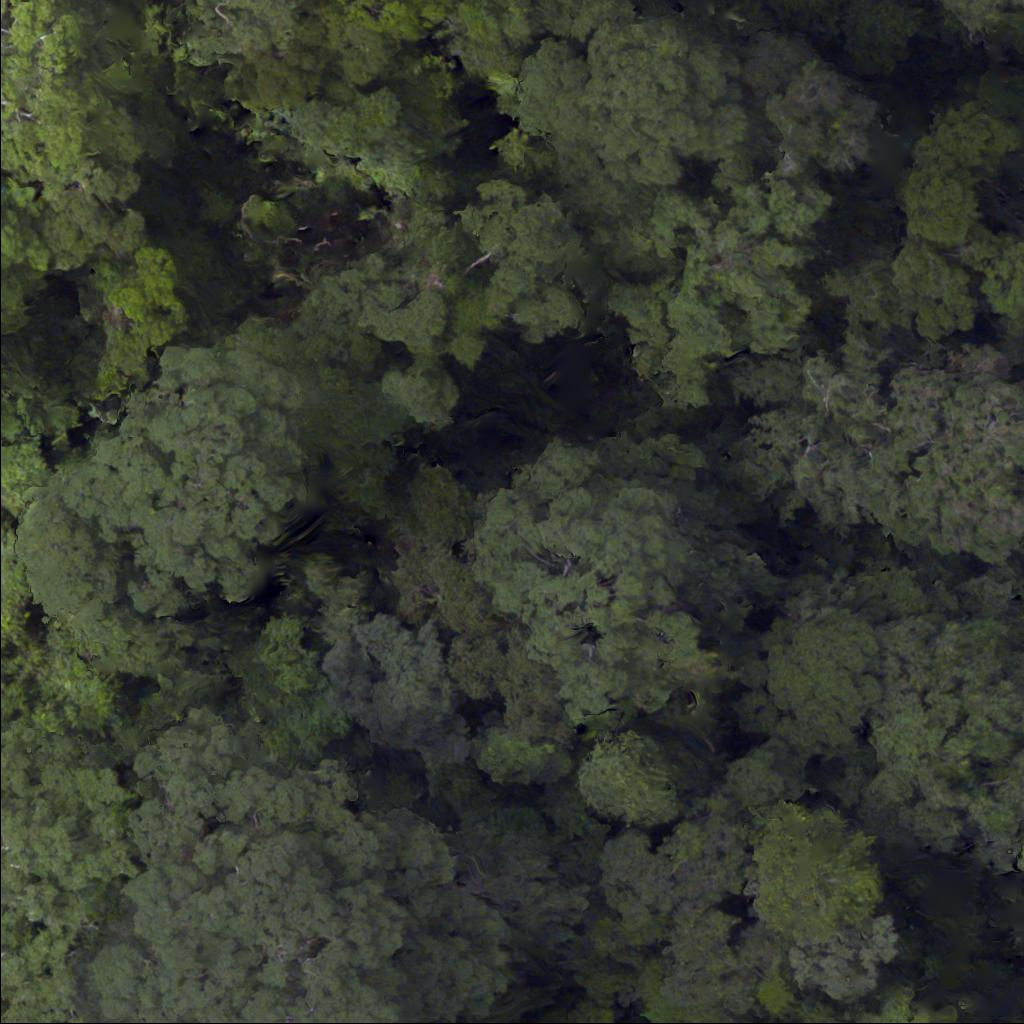crown: (71, 729, 521, 1023), (16, 341, 318, 640), (0, 724, 136, 1023)
